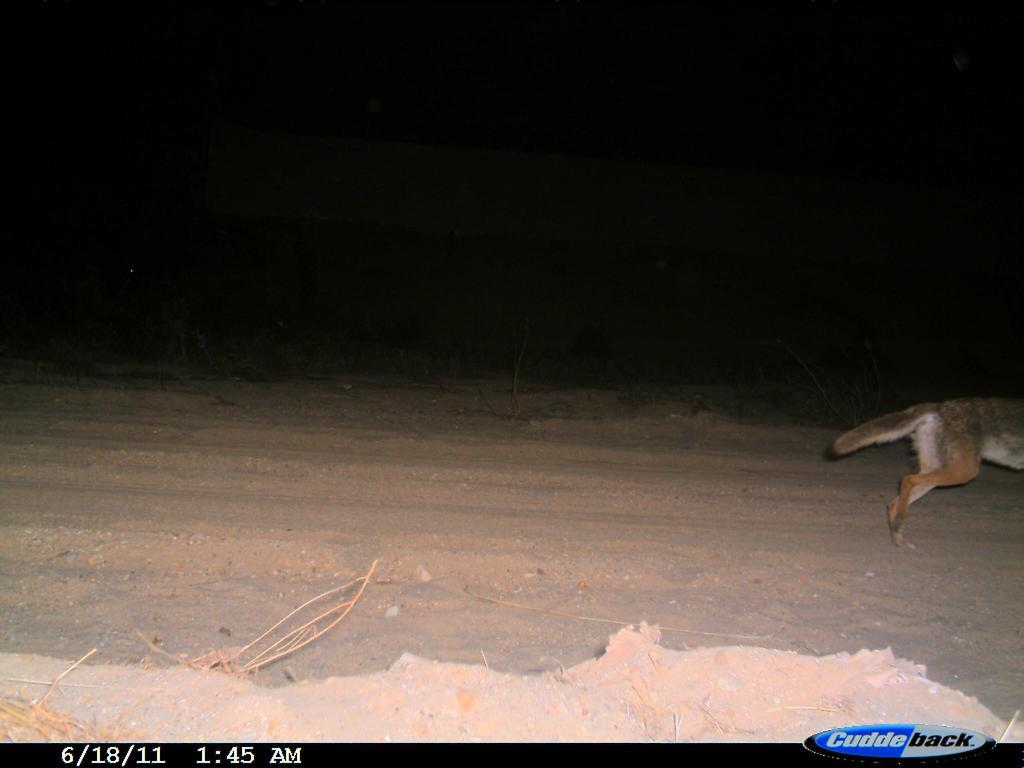coyote: (824, 391, 1021, 550)
